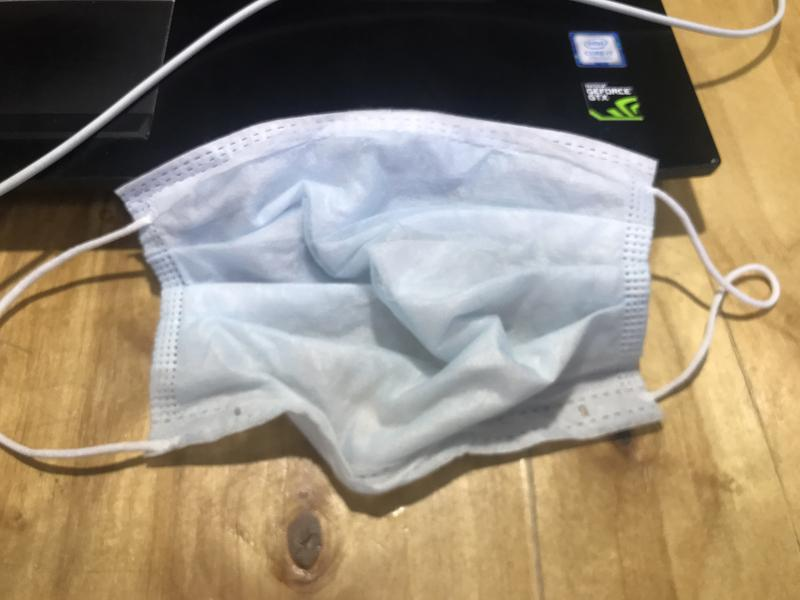medical_mask: (2, 109, 782, 495)
